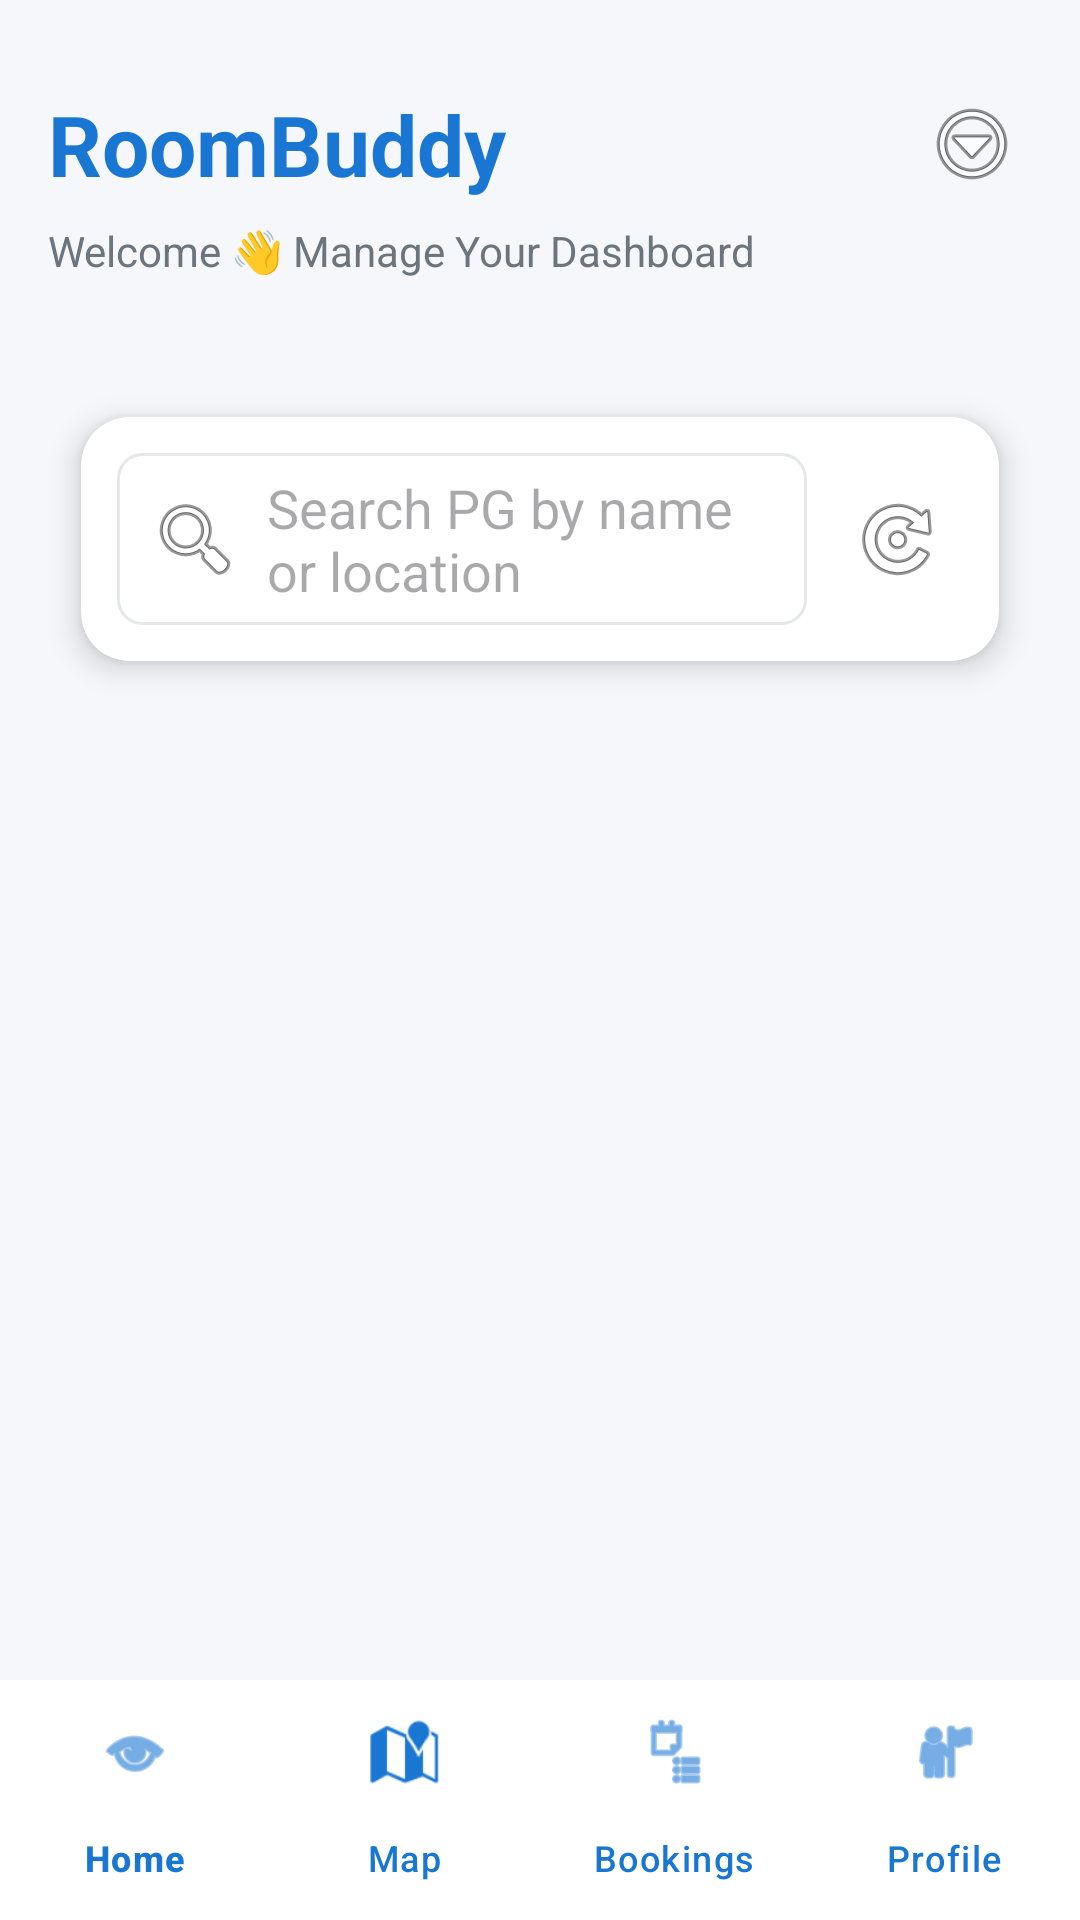

Named icons in this screenshot (1080w x 1920h) and their bounding boxes, (x1, y1, x2, y2):
Menu: (936, 108, 1008, 180)
